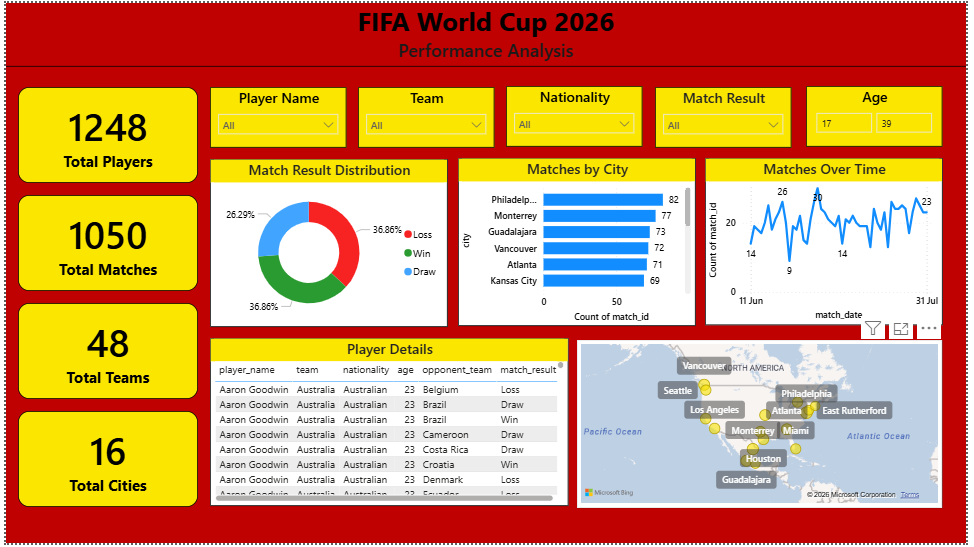

The dashboard page shown, as its layout file describes it:
{"tool":"powerbi","page":{"name":"Page 1","canvas":[1280,720],"ordinal":0},"visuals":[{"type":"actionButton","box":[0,0,100,40],"z":0},{"type":"textbox","title":"FIFA World Cup 2026","box":[0,0,1280,719.8],"z":1000},{"type":"card","fields":{"Values":["fifa_world_cup_2026_player_performance_new.Total Players"]},"box":[16,112,240,128],"z":2000},{"type":"card","fields":{"Values":["fifa_world_cup_2026_player_performance_new.Total Matches"]},"box":[16,256,240,128],"z":3000},{"type":"card","fields":{"Values":["fifa_world_cup_2026_player_performance_new.Total Teams"]},"box":[16,400,240,128],"z":4000},{"type":"card","fields":{"Values":["fifa_world_cup_2026_player_performance_new.Total Cities"]},"box":[16,544,240,128],"z":5000},{"type":"slicer","title":"Player Name","fields":{"Values":["fifa_world_cup_2026_player_performance_new.player_name"]},"box":[272.5,111.5,181.7,81.2],"z":6000},{"type":"slicer","title":"Team","fields":{"Values":["fifa_world_cup_2026_player_performance_new.team"]},"box":[469.3,111.5,181.7,81.2],"z":7000},{"type":"slicer","title":"Nationality","fields":{"Values":["fifa_world_cup_2026_player_performance_new.nationality"]},"box":[666.2,110.1,181.7,81.2],"z":8000},{"type":"slicer","title":"Match Result","fields":{"Values":["fifa_world_cup_2026_player_performance_new.match_result"]},"box":[865.7,111.5,181.7,81.2],"z":9000},{"type":"slicer","title":"Age","fields":{"Values":["fifa_world_cup_2026_player_performance_new.age"]},"box":[1066.7,110.1,181.7,81.2],"z":10000},{"type":"donutChart","title":"Match Result Distribution","fields":{"Category":["fifa_world_cup_2026_player_performance_new.match_result"],"Y":["CountNonNull(fifa_world_cup_2026_player_performance_new.match_id)"]},"box":[272.5,207.8,316.6,224.3],"z":11000},{"type":"clusteredBarChart","title":"Matches by City","fields":{"Category":["fifa_world_cup_2026_player_performance_new.city"],"Y":["Count(fifa_world_cup_2026_player_performance_new.match_id)"]},"box":[602.8,206.5,316.6,224.3],"z":12000},{"type":"lineChart","title":"Matches Over Time","fields":{"Y":["Count(fifa_world_cup_2026_player_performance_new.match_id)"],"Category":["fifa_world_cup_2026_player_performance_new.match_date"]},"box":[931.8,206.5,316.6,223],"z":13000},{"type":"tableEx","title":"Player Details","fields":{"Values":["fifa_world_cup_2026_player_performance_new.player_name","fifa_world_cup_2026_player_performance_new.team","fifa_world_cup_2026_player_performance_new.nationality","fifa_world_cup_2026_player_performance_new.age","fifa_world_cup_2026_player_performance_new.opponent_team","fifa_world_cup_2026_player_performance_new.match_result"]},"box":[272.5,447.3,477.6,224.3],"z":14000},{"type":"map","title":"Matches by Opponent Team","fields":{"Size":["Count(fifa_world_cup_2026_player_performance_new.match_id)"],"Category":["fifa_world_cup_2026_player_performance_new.city"]},"box":[761.1,448.7,487.2,224.3],"z":15000}]}

Visuals, with their boxes in screenshot pixels (x1, y1, x2, y2), scaled from the page's 1280x720 canvas onto the 974x547 screenshot:
actionButton: pyautogui.locateOnScreen(0, 0, 76, 30)
"FIFA World Cup 2026" textbox: pyautogui.locateOnScreen(0, 0, 973, 546)
card - fifa_world_cup_2026_player_performance_new.Total Players: pyautogui.locateOnScreen(12, 85, 195, 182)
card - fifa_world_cup_2026_player_performance_new.Total Matches: pyautogui.locateOnScreen(12, 194, 195, 292)
card - fifa_world_cup_2026_player_performance_new.Total Teams: pyautogui.locateOnScreen(12, 304, 195, 401)
card - fifa_world_cup_2026_player_performance_new.Total Cities: pyautogui.locateOnScreen(12, 413, 195, 511)
"Player Name" slicer: pyautogui.locateOnScreen(207, 85, 346, 146)
"Team" slicer: pyautogui.locateOnScreen(357, 85, 495, 146)
"Nationality" slicer: pyautogui.locateOnScreen(507, 84, 645, 145)
"Match Result" slicer: pyautogui.locateOnScreen(659, 85, 797, 146)
"Age" slicer: pyautogui.locateOnScreen(812, 84, 950, 145)
"Match Result Distribution" donutChart: pyautogui.locateOnScreen(207, 158, 448, 328)
"Matches by City" clusteredBarChart: pyautogui.locateOnScreen(459, 157, 700, 327)
"Matches Over Time" lineChart: pyautogui.locateOnScreen(709, 157, 950, 326)
"Player Details" tableEx: pyautogui.locateOnScreen(207, 340, 571, 510)
"Matches by Opponent Team" map: pyautogui.locateOnScreen(579, 341, 950, 511)
